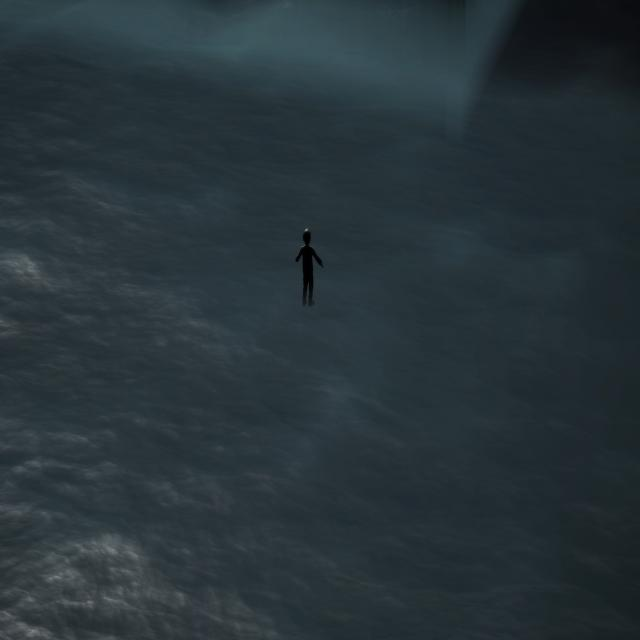Human: (294, 220, 328, 312)
